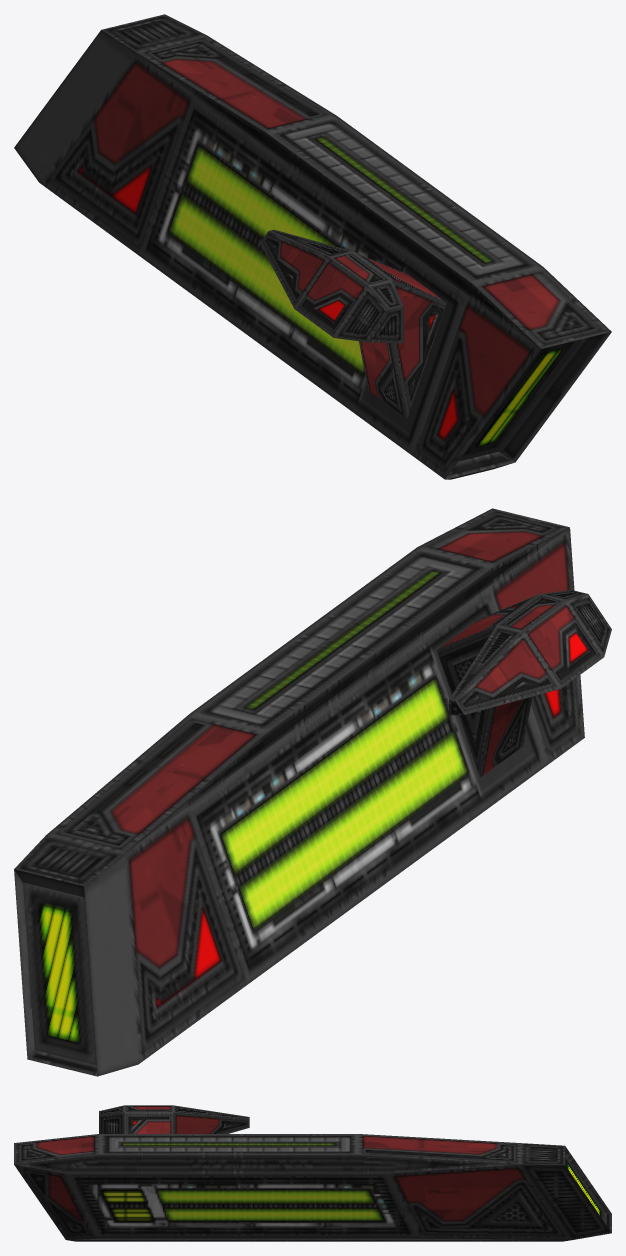
The model's file is BFP_ConstSingleEngine_LL.FBX.
3 views of the same model, one above another, from view 1: azimuth 30°, elevation 25°; view 2: azimuth 150°, elevation 25°; view 3: azimuth 270°, elevation 25° (orthographic). The views are drawn at different scales.
Visible parts, largest first — view 1: BFP_ConstSingleEngine_LL; view 2: BFP_ConstSingleEngine_LL; view 3: BFP_ConstSingleEngine_LL.
Part boxes in pixels (x1=…): BFP_ConstSingleEngine_LL: x1=14, y1=14, x2=611, y2=479; BFP_ConstSingleEngine_LL: x1=14, y1=508, x2=611, y2=1076; BFP_ConstSingleEngine_LL: x1=14, y1=1105, x2=611, y2=1241.
Bounding box in the file's own units: 137 × 119 × 588.
1 material, 1 textured.
